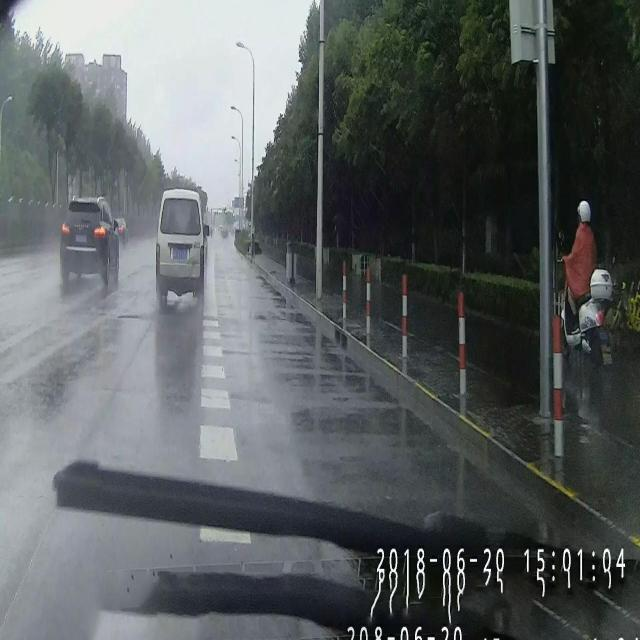car: (154, 188, 204, 304), (58, 196, 120, 284)
